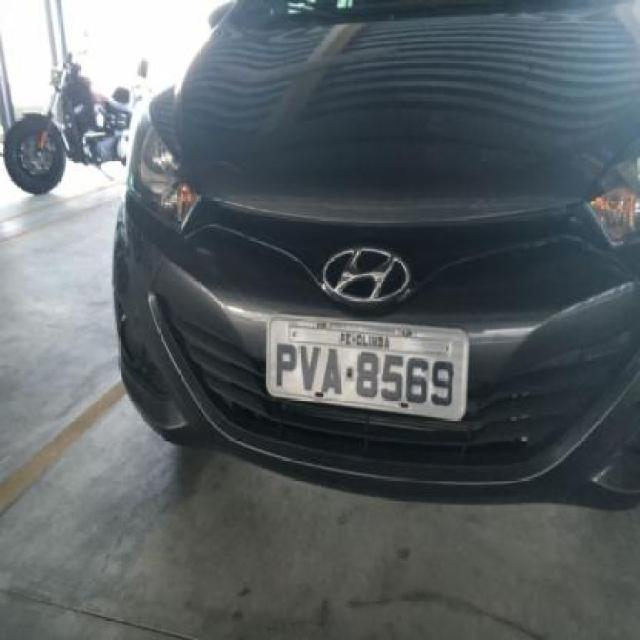old_plate: (260, 310, 477, 426)
